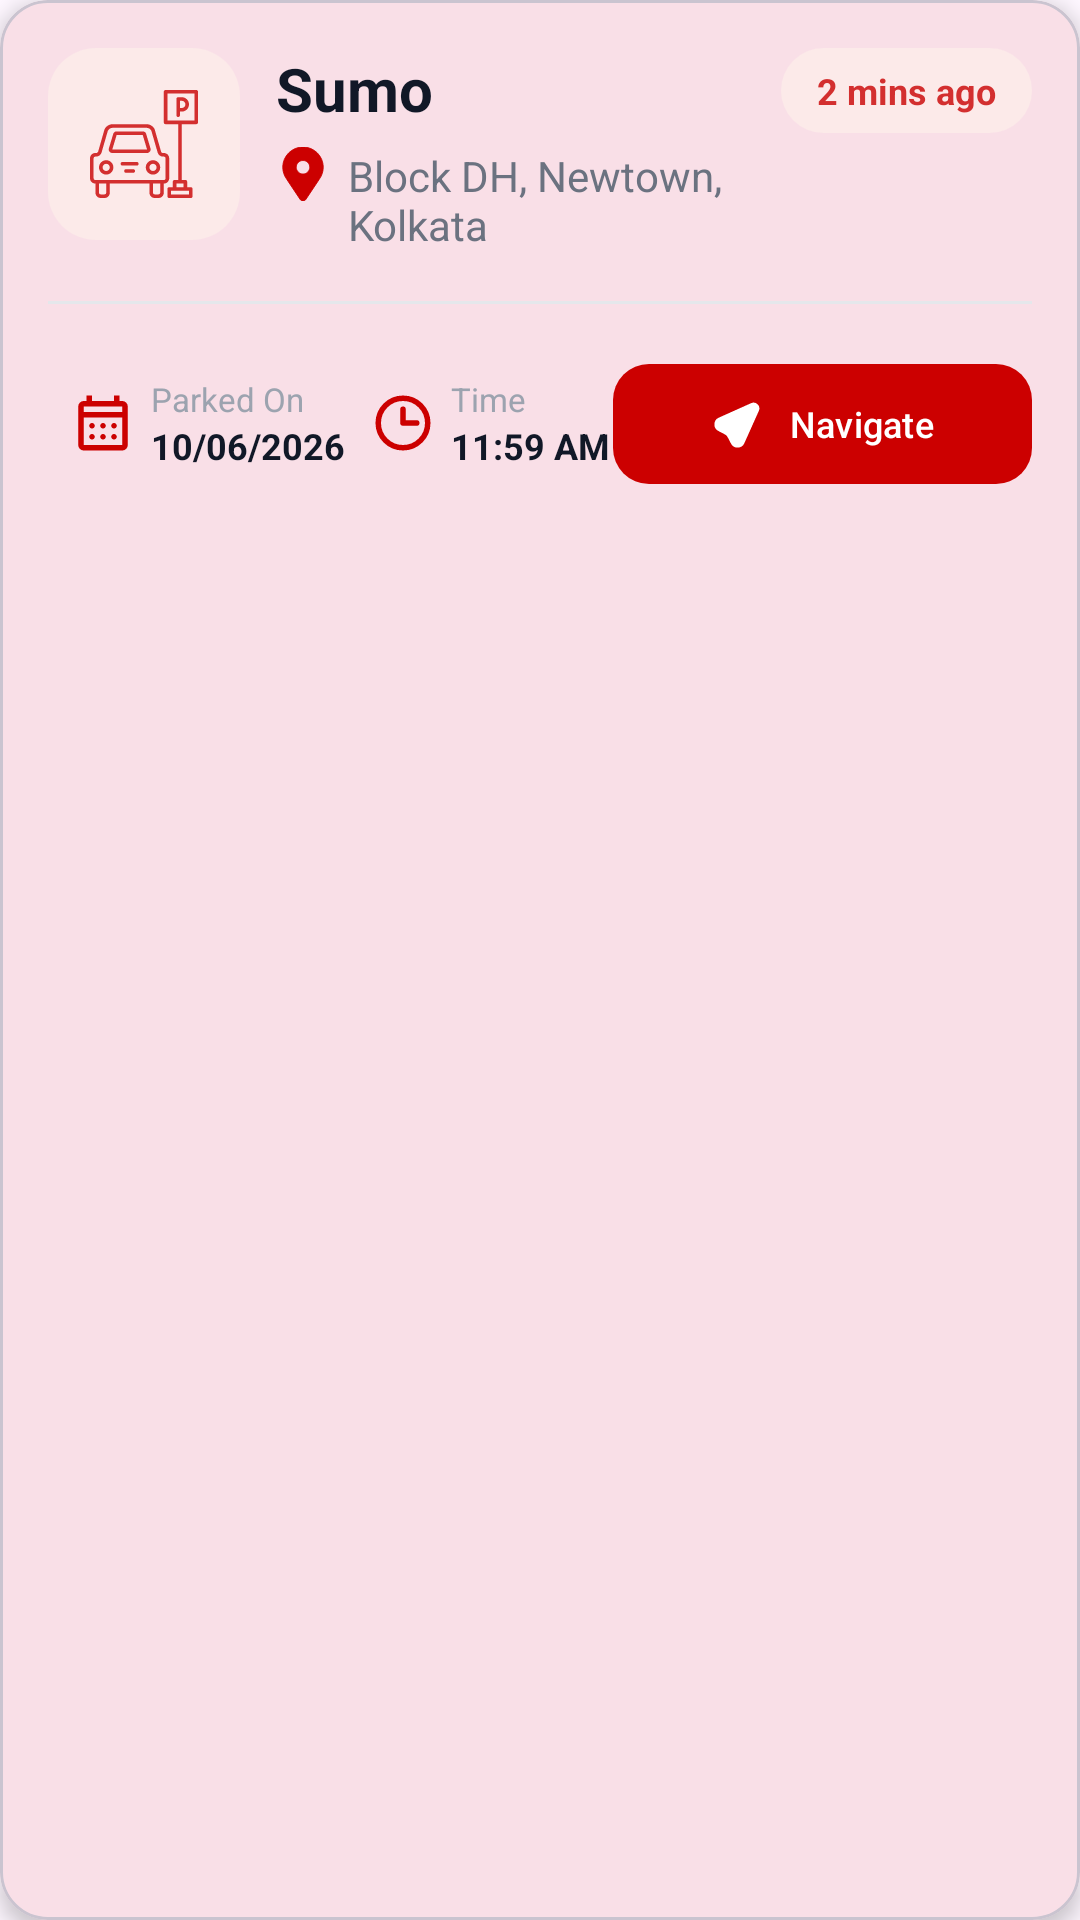

Screen size 1080x1920. Icon name, then its box in pixels as (x1, y1, x2, y2):
calendar: (78, 395, 128, 451)
clock: (375, 395, 431, 451)
location: (282, 147, 324, 201)
parking: (48, 48, 240, 240)
